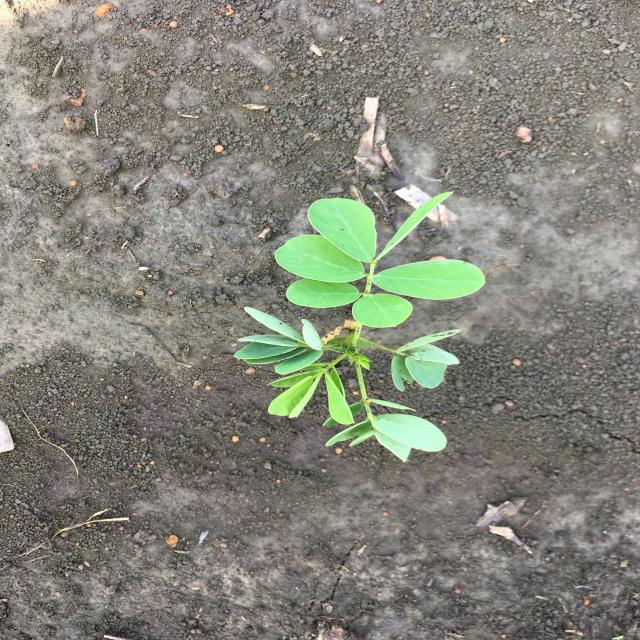Sicklepod: (231, 189, 488, 463)
